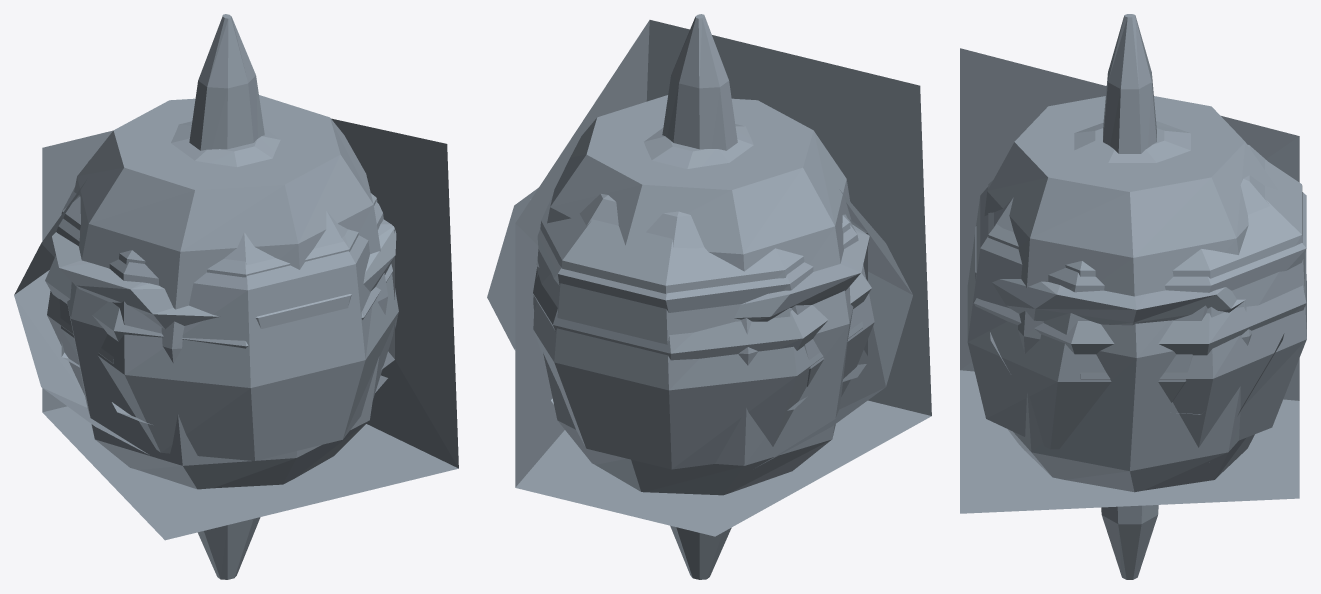
File: rowplay-rigs-v1.glb
3 views of the same model, side by side, from view 1: azimuth 30°, elevation 25°; view 2: azimuth 150°, elevation 25°; view 3: azimuth 270°, elevation 25° (orthographic).
Visible parts, largest first — view 1: athlete:pelvis, athlete:head, athlete:hand, equipment:row:hull, athlete:torso, athlete:hair, athlete:shoulder, athlete:helmet; view 2: athlete:hand, athlete:pelvis, athlete:hair, athlete:head, athlete:shoulder, equipment:row:hull, athlete:helmet, athlete:torso; view 3: athlete:pelvis, athlete:hand, athlete:head, athlete:hair, equipment:row:hull, athlete:torso, athlete:helmet.
Part boxes in pixels (left/top/right/bottom): athlete:pelvis: left=67, top=95, right=388, bottom=489; athlete:head: left=56, top=201, right=398, bottom=460; athlete:hand: left=42, top=118, right=458, bottom=540; equipment:row:hull: left=189, top=14, right=264, bottom=579; athlete:torso: left=52, top=219, right=396, bottom=329; athlete:hair: left=47, top=121, right=377, bottom=396; athlete:shoulder: left=14, top=180, right=387, bottom=454; athlete:helmet: left=45, top=255, right=392, bottom=348; athlete:hand: left=515, top=20, right=931, bottom=536; athlete:pelvis: left=533, top=95, right=853, bottom=495; athlete:hair: left=533, top=124, right=863, bottom=469; athlete:head: left=537, top=193, right=874, bottom=396; athlete:shoulder: left=487, top=187, right=912, bottom=466; equipment:row:hull: left=662, top=14, right=737, bottom=579; athlete:helmet: left=533, top=269, right=871, bottom=360; athlete:torso: left=530, top=199, right=869, bottom=321; athlete:pelvis: left=984, top=96, right=1278, bottom=492; athlete:hand: left=960, top=48, right=1299, bottom=513; athlete:head: left=967, top=144, right=1306, bottom=449; athlete:hair: left=988, top=121, right=1306, bottom=447; equipment:row:hull: left=1101, top=14, right=1158, bottom=579; athlete:torso: left=975, top=226, right=1245, bottom=325; athlete:helmet: left=973, top=250, right=1306, bottom=355.
Bounding box in the file's own units: 2.24 × 3.64 × 2.04.
